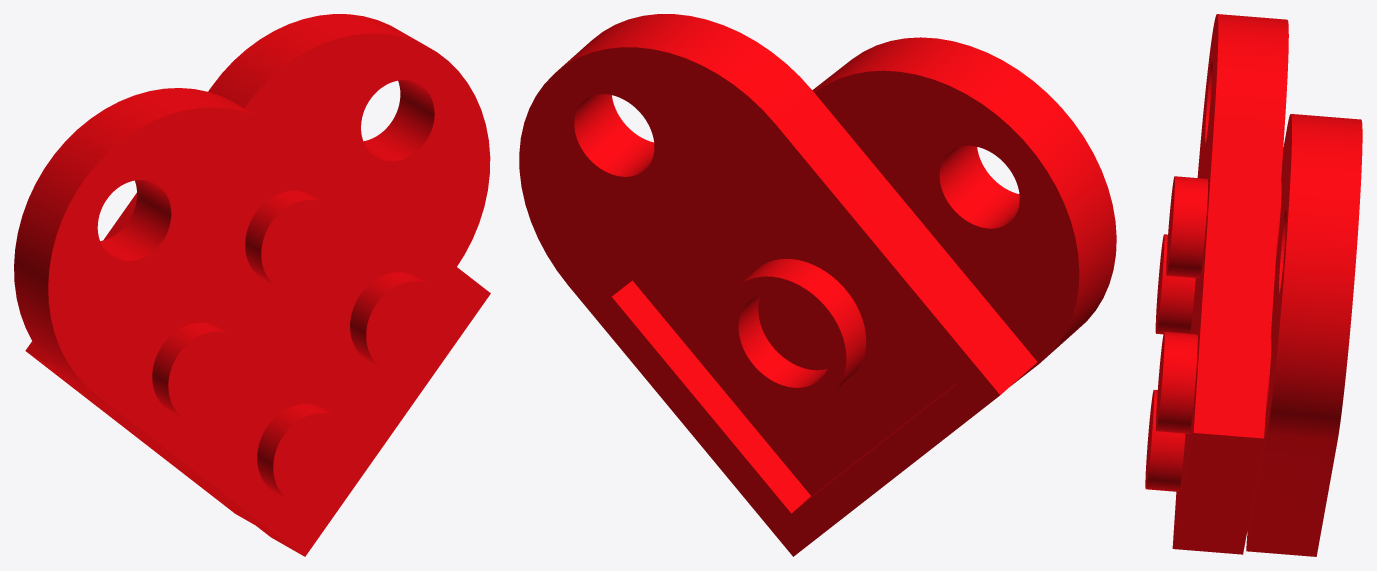
File: couple.glb
3 views of the same model, side by side, from view 1: azimuth 30°, elevation 25°; view 2: azimuth 150°, elevation 25°; view 3: azimuth 270°, elevation 25° (orthographic). The views are drawn at different scales.
Visible parts, largest first — view 1: 3MF Object.001, 3MF Object.002; view 2: 3MF Object.002, 3MF Object.001; view 3: 3MF Object.001, 3MF Object.002.
Boxes of the visible parts, x1,y1,x2,y2 form: 3MF Object.001: (14,88,490,556); 3MF Object.002: (25,14,490,524); 3MF Object.002: (519,14,1037,556); 3MF Object.001: (812,37,1116,387); 3MF Object.001: (1145,14,1288,554); 3MF Object.002: (1246,114,1362,556).
Bounding box in the file's own units: 0.03 × 0.0278 × 0.0115.
